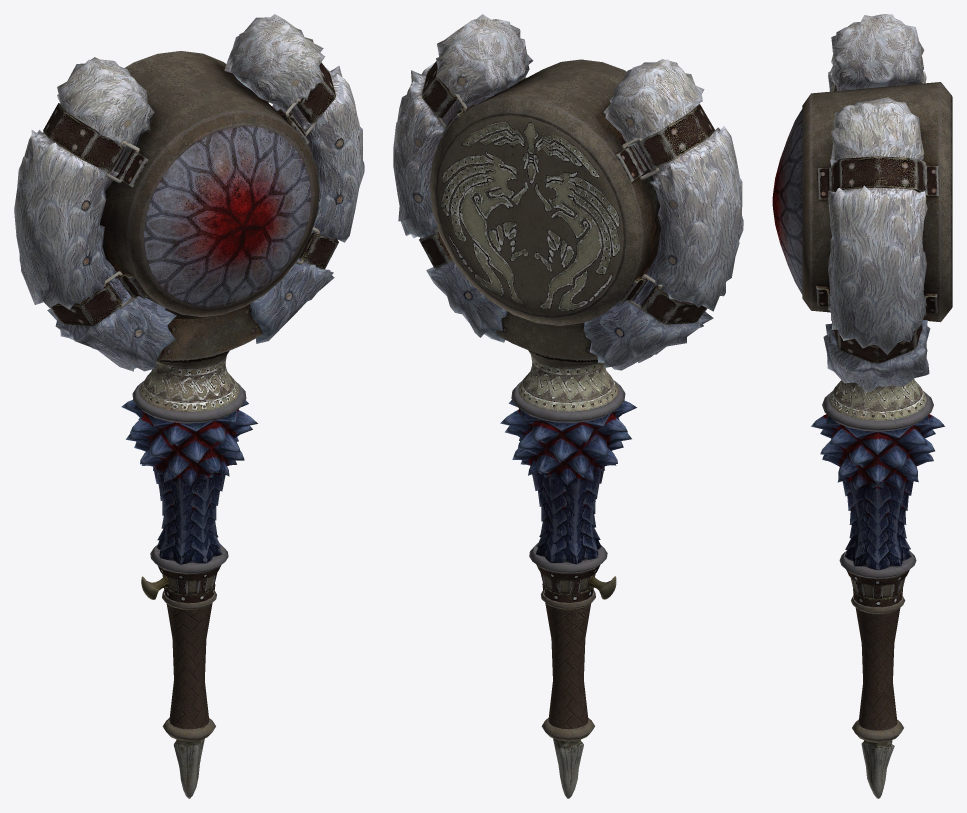
Rendered from hue010.obj.
3 renders of one model, left to right at view 1: azimuth 30°, elevation 25°; view 2: azimuth 150°, elevation 25°; view 3: azimuth 270°, elevation 25°, orthographic. The views are drawn at different scales.
Visible parts, largest first — view 1: hue010_001_LOD_1, hue010_000_LOD_1; view 2: hue010_001_LOD_1, hue010_000_LOD_1; view 3: hue010_001_LOD_1, hue010_000_LOD_1.
Part boxes in pixels (x1,y1,x2,y2): hue010_001_LOD_1: (14,14,364,798); hue010_000_LOD_1: (99,51,319,317); hue010_001_LOD_1: (393,14,743,798); hue010_000_LOD_1: (429,59,660,325); hue010_001_LOD_1: (811,14,944,798); hue010_000_LOD_1: (772,82,952,322).
Size of the model in its own units: 118 by 256 by 56.43.
